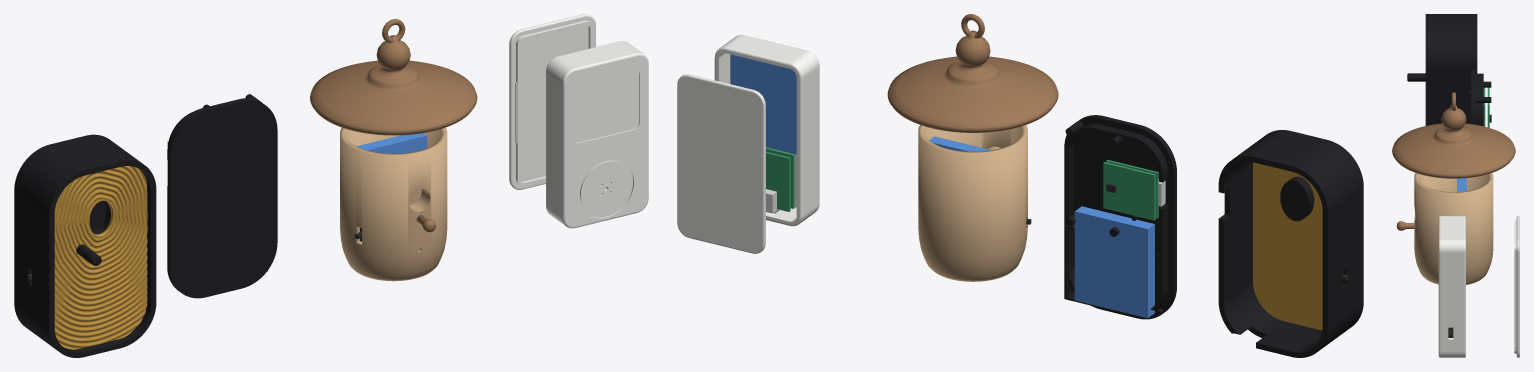
The model's file is WildlifeTracker_FormFactors.glb.
3 renders of one model, left to right at view 1: azimuth 30°, elevation 25°; view 2: azimuth 150°, elevation 25°; view 3: azimuth 270°, elevation 25°, orthographic. The views are drawn at different scales.
Visible parts, largest first — view 1: BackLid_XIAO, iPod_Body, FrontPanel_XIAO, TB_Body, Shell_XIAO, TB_Roof, iPod_Lid, PH_LiPo_503035_TB, HolePocket_XIAO; view 2: Shell_XIAO, TB_Body, iPod_Lid, TB_Roof, BackLid_XIAO, FrontPanel_XIAO, PH_LiPo_503035_BH, iPod_Body, PH_LiPo_503035_iPod, PH_XIAO_Sense_BH, HolePocket_XIAO, PH_XIAO_main_iPod; view 3: TB_Body, TB_Roof, Shell_XIAO, iPod_Body, iPod_Lid, BackLid_XIAO, Perch_XIAO, PH_LiPo_503035_TB, TB_Perch.
Part boxes in pixels (left/top/right/bottom): BackLid_XIAO: left=167, top=94, right=277, bottom=298; iPod_Body: left=546, top=41, right=648, bottom=228; FrontPanel_XIAO: left=54, top=166, right=147, bottom=349; TB_Body: left=340, top=127, right=447, bottom=281; Shell_XIAO: left=14, top=134, right=156, bottom=357; TB_Roof: left=310, top=19, right=477, bottom=135; iPod_Lid: left=509, top=14, right=595, bottom=189; PH_LiPo_503035_TB: left=357, top=133, right=427, bottom=153; HolePocket_XIAO: left=89, top=201, right=110, bottom=234; Shell_XIAO: left=1218, top=130, right=1363, bottom=357; TB_Body: left=918, top=125, right=1027, bottom=281; iPod_Lid: left=677, top=74, right=765, bottom=253; TB_Roof: left=887, top=14, right=1058, bottom=132; BackLid_XIAO: left=1064, top=115, right=1176, bottom=319; FrontPanel_XIAO: left=1253, top=162, right=1322, bottom=330; PH_LiPo_503035_BH: left=1074, top=206, right=1154, bottom=318; iPod_Body: left=714, top=34, right=819, bottom=226; PH_LiPo_503035_iPod: left=730, top=54, right=796, bottom=154; PH_XIAO_Sense_BH: left=1103, top=162, right=1155, bottom=220; HolePocket_XIAO: left=1280, top=176, right=1314, bottom=221; PH_XIAO_main_iPod: left=766, top=151, right=790, bottom=211; TB_Body: left=1414, top=173, right=1493, bottom=284; TB_Roof: left=1392, top=92, right=1515, bottom=178; Shell_XIAO: left=1425, top=14, right=1477, bottom=125; iPod_Body: left=1438, top=216, right=1465, bottom=357; iPod_Lid: left=1514, top=216, right=1519, bottom=357; BackLid_XIAO: left=1471, top=68, right=1491, bottom=126; Perch_XIAO: left=1407, top=73, right=1425, bottom=81; PH_LiPo_503035_TB: left=1457, top=178, right=1466, bottom=191; TB_Perch: left=1397, top=221, right=1414, bottom=230.
Bounding box in the file's own units: 0.258 × 0.0977 × 0.0629.
